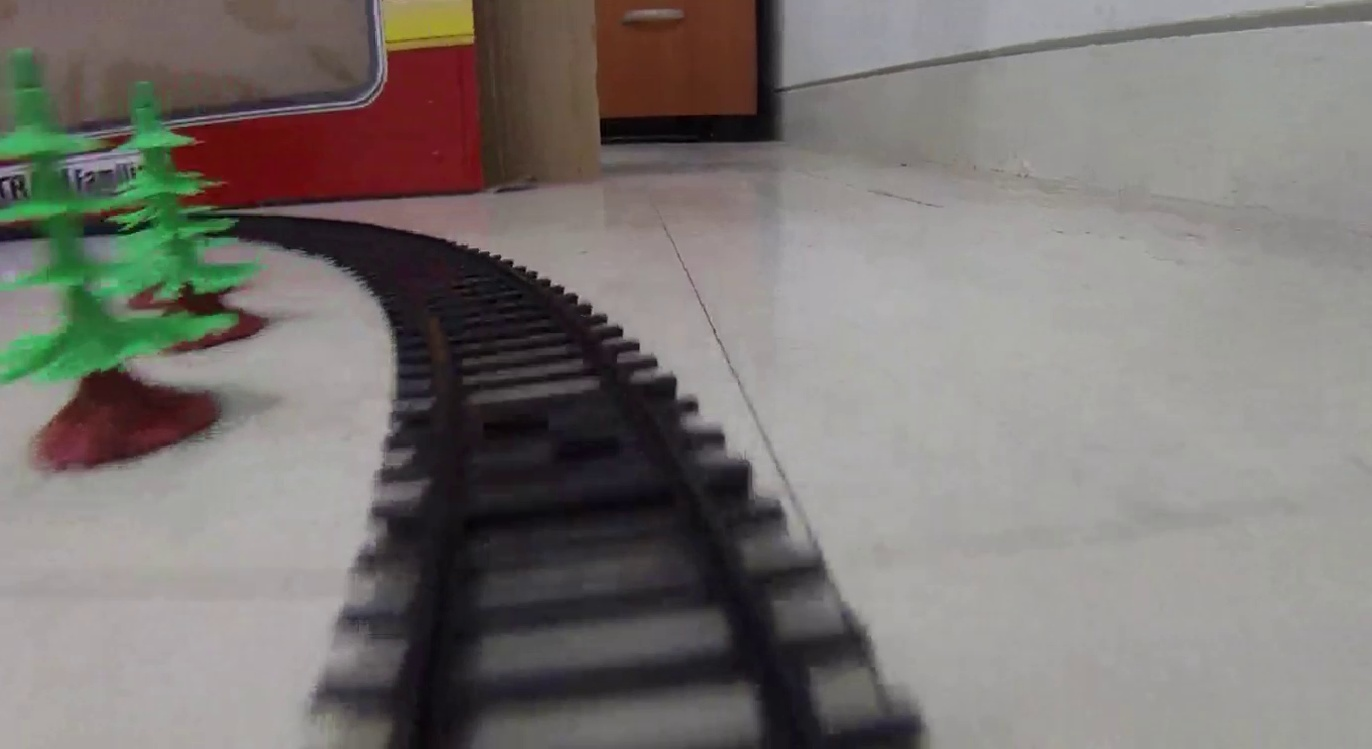tree: (6, 48, 225, 475), (108, 80, 268, 353)
